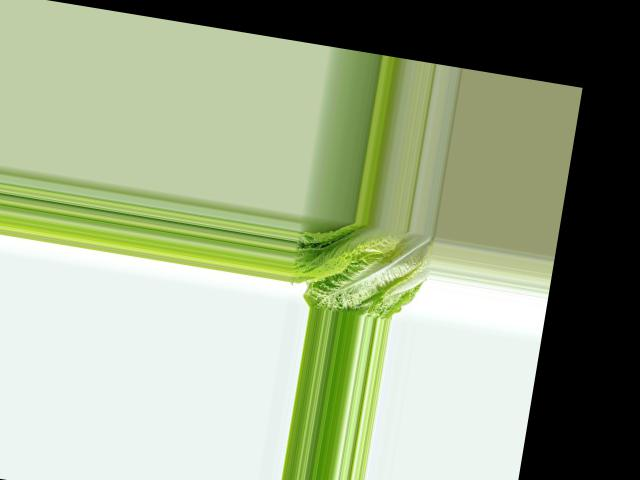lettuce: (285, 214, 435, 324)
